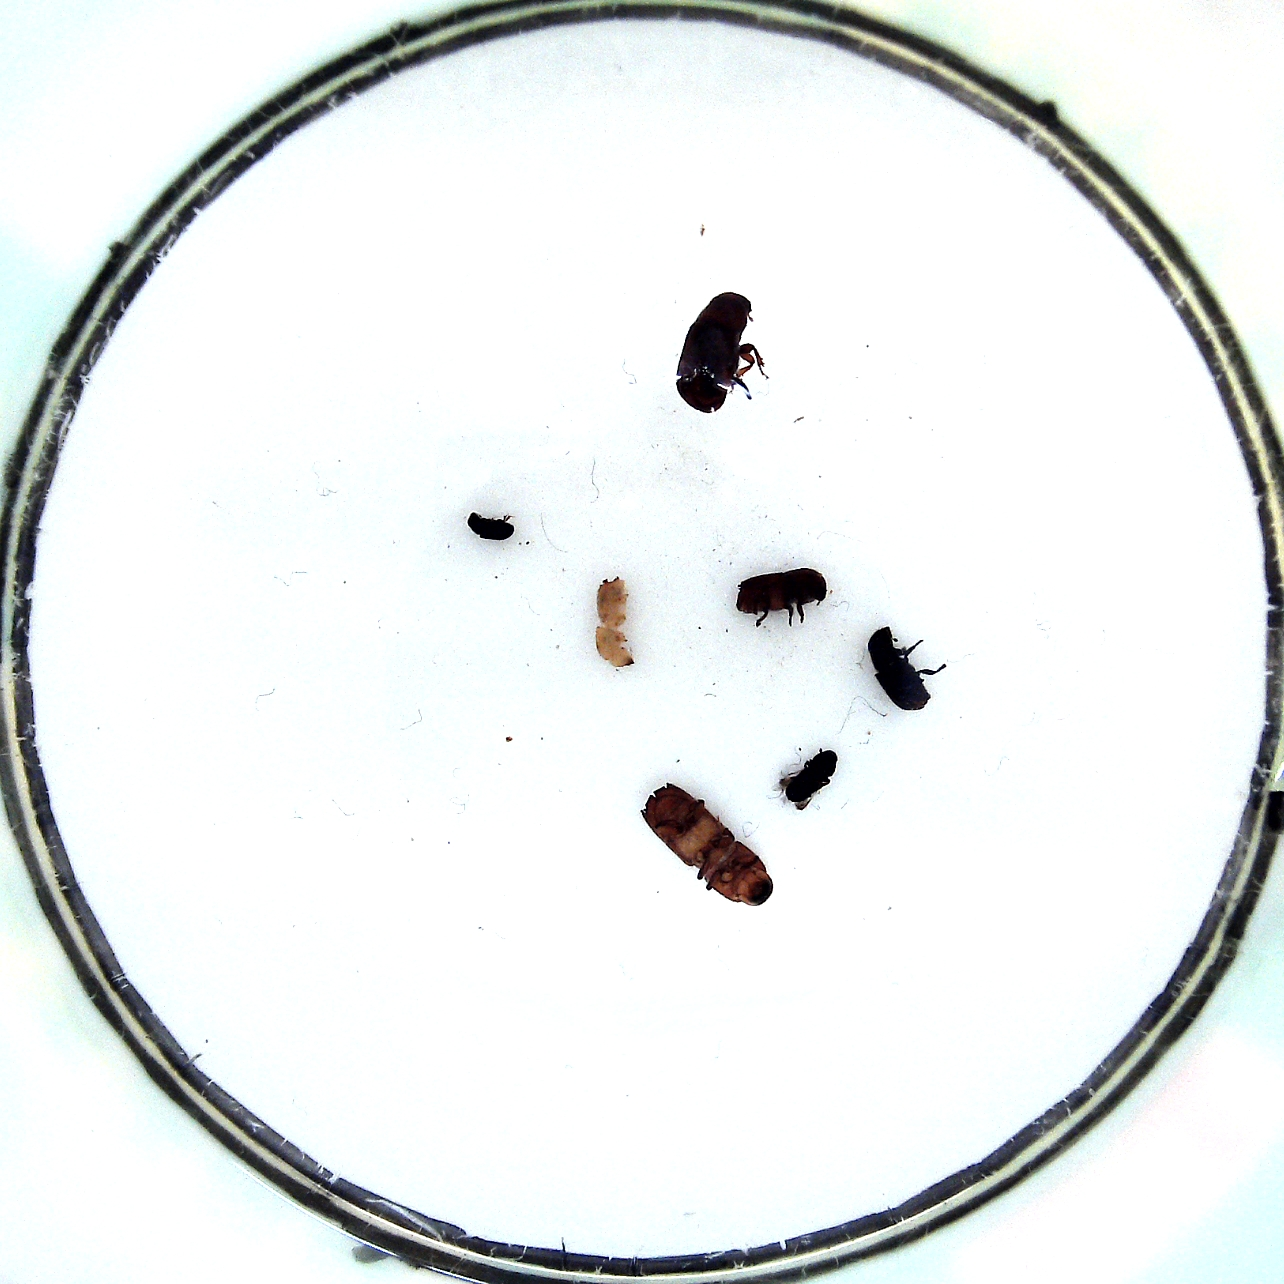Boerner: (634, 777, 780, 911)
Leconte: (668, 288, 775, 419)
Linnaeus: (727, 566, 840, 627)
acuminatus: (590, 570, 641, 675)
armandi: (865, 622, 950, 713)
coleoptera: (773, 745, 845, 816), (462, 504, 519, 550)
